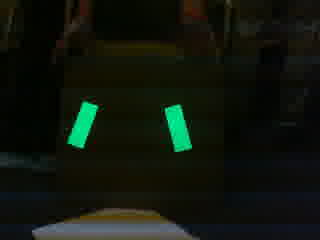target: (65, 99, 195, 154)
